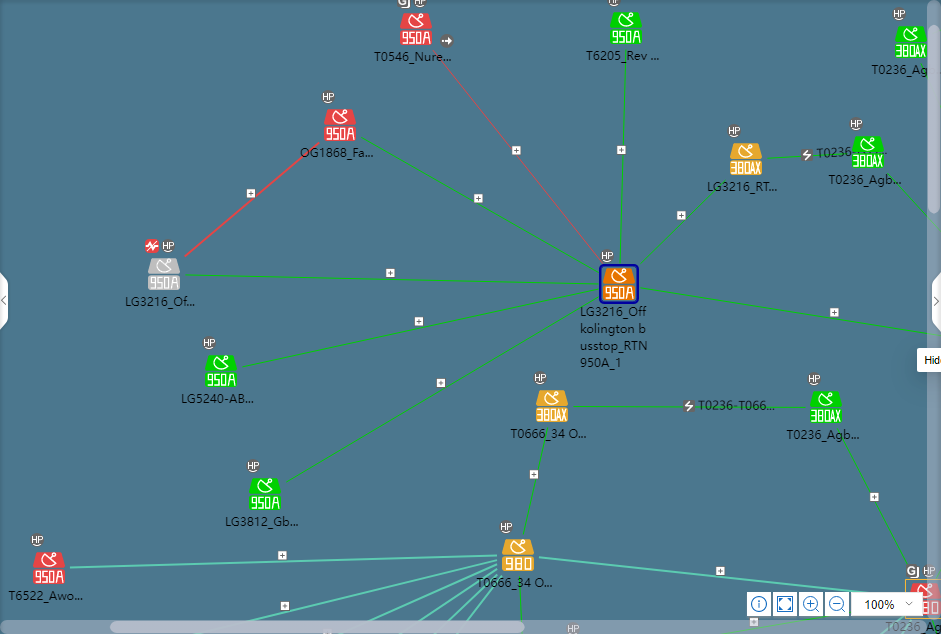Link_Blue: (245, 560, 497, 621), (539, 556, 864, 592), (368, 563, 497, 621), (70, 554, 496, 570), (418, 568, 498, 621), (447, 574, 498, 621), (466, 575, 503, 620)
Link_Green: (285, 296, 598, 484), (359, 135, 597, 274), (241, 288, 598, 371), (641, 285, 941, 337), (836, 427, 909, 566), (639, 180, 727, 265), (185, 274, 599, 287), (886, 172, 941, 233), (521, 428, 549, 536), (574, 402, 807, 411), (619, 49, 627, 264), (767, 152, 851, 161), (517, 576, 523, 621)
Link_Red: (431, 49, 604, 264), (183, 141, 321, 258)
RTN_Gray: (148, 259, 179, 290)
RTN_Green: (810, 392, 841, 424), (249, 479, 280, 511), (894, 26, 926, 57), (851, 137, 884, 167), (205, 356, 236, 387), (610, 12, 641, 43)
RTN_Orange: (600, 266, 637, 302)
RTN_Red: (905, 581, 940, 618), (324, 109, 355, 141), (400, 13, 431, 45), (33, 554, 64, 585)
RTN_Yellow: (502, 540, 533, 572), (730, 143, 761, 175), (536, 391, 567, 422)
